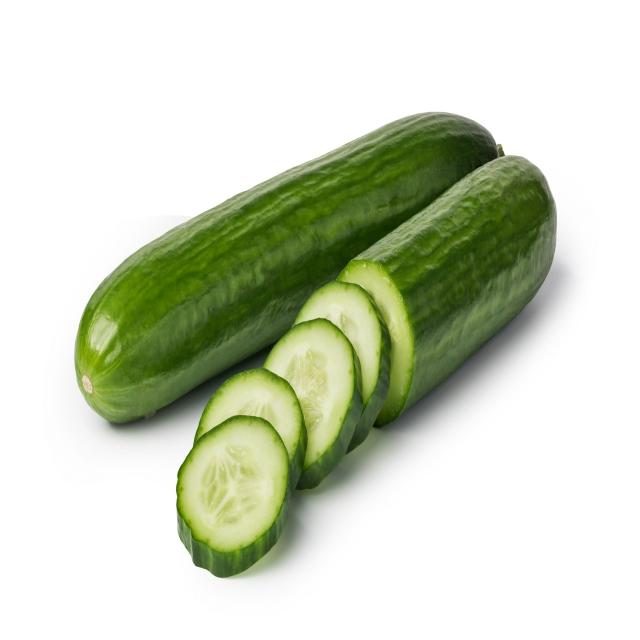Pickle: (75, 112, 498, 422), (339, 156, 556, 426), (176, 415, 290, 573), (295, 280, 391, 452), (265, 318, 362, 487), (194, 368, 308, 489), (285, 347, 329, 435)
